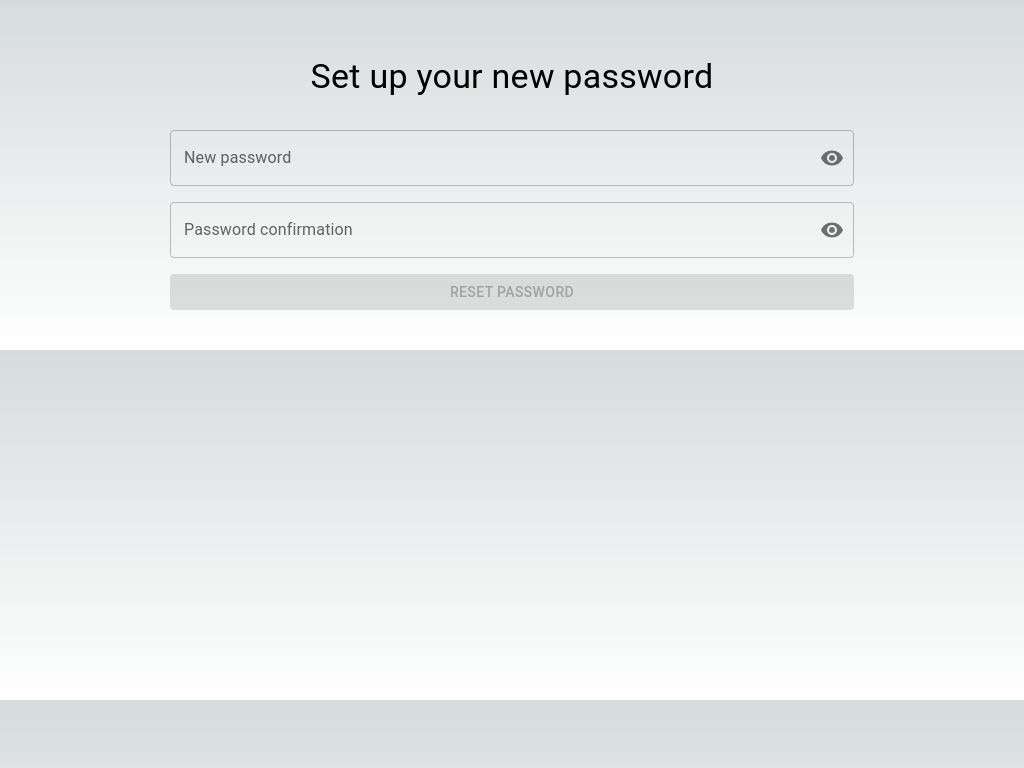
it: Reset Password Container › Submit Form › should show error message in case of wrong submit
The width and height of the screenshot is (1024, 768).
Type "Rodrizio.123" into the password field labelled "New password".
click(487, 158); type("Rodrizio.123")  # box [170,130,804,186]
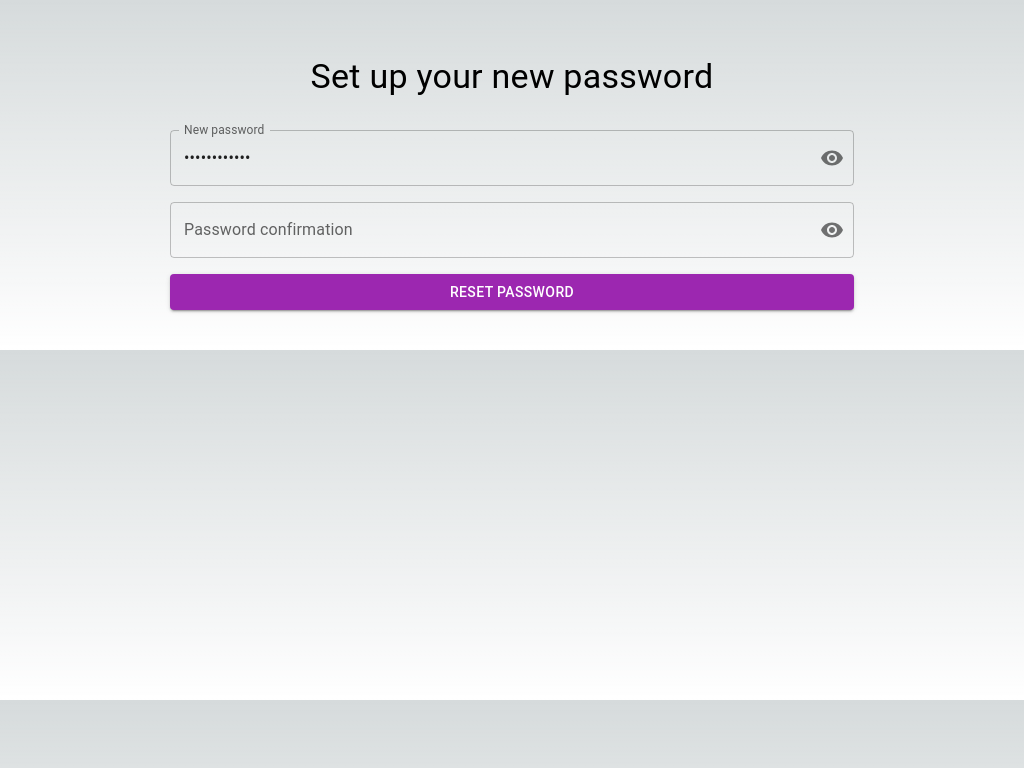
Type "Rodrizio.123" into the password field labelled "Password confirmation".
click(487, 230); type("Rodrizio.123")  # box [170,202,804,258]
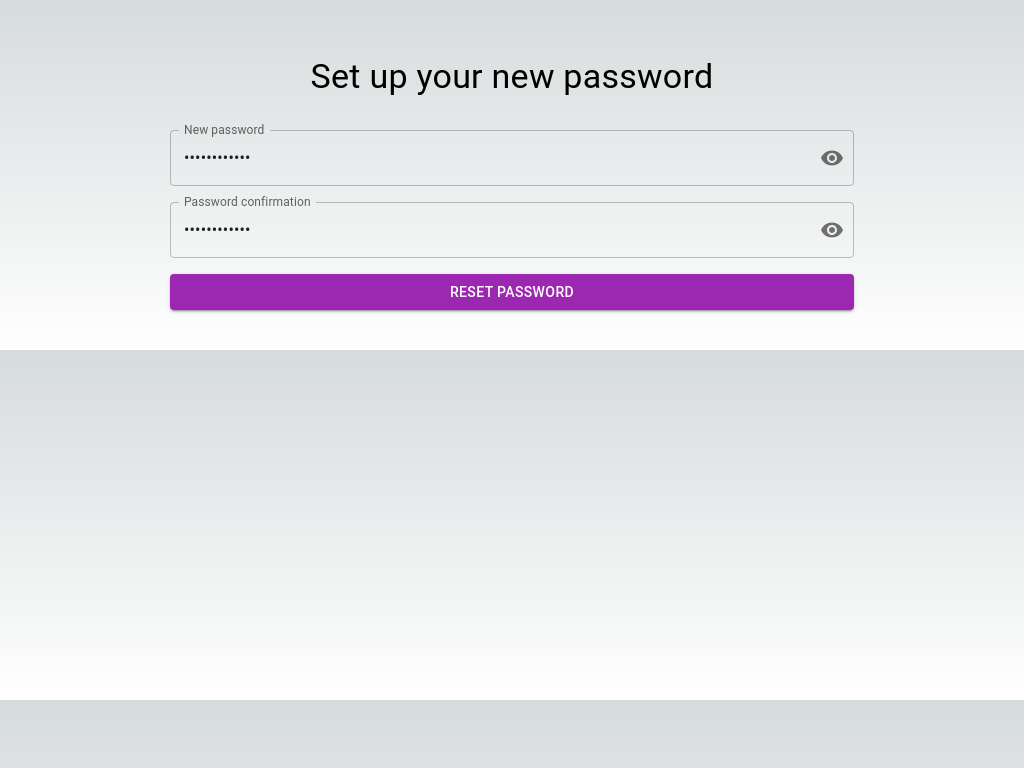
Click the button "Reset password".
click(512, 292)  # box [170,274,854,310]
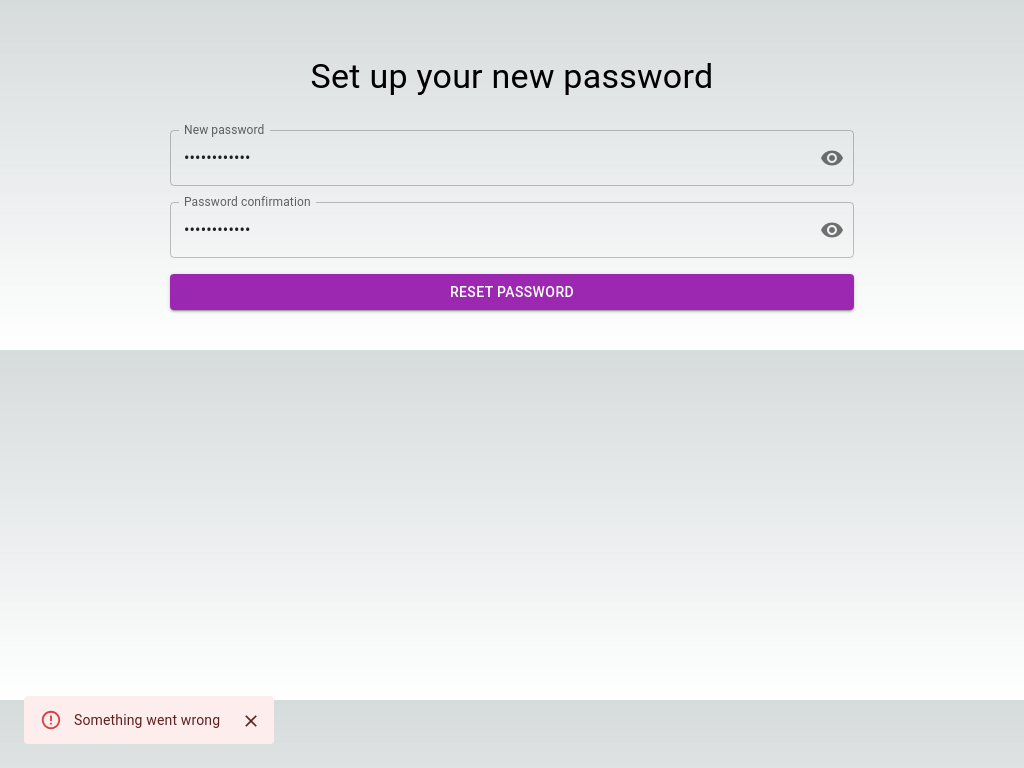
Now the text "Something went wrong" is shown, box [74,712,220,728]
